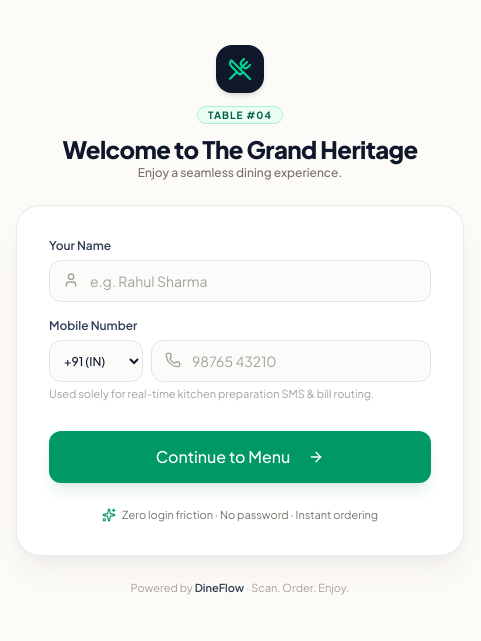
it: DineFlow Sprint 2 Authentication Views › validates customer guest entry required fields
Click the button "Continue to Menu" at (240, 457), box [49,431,431,483]
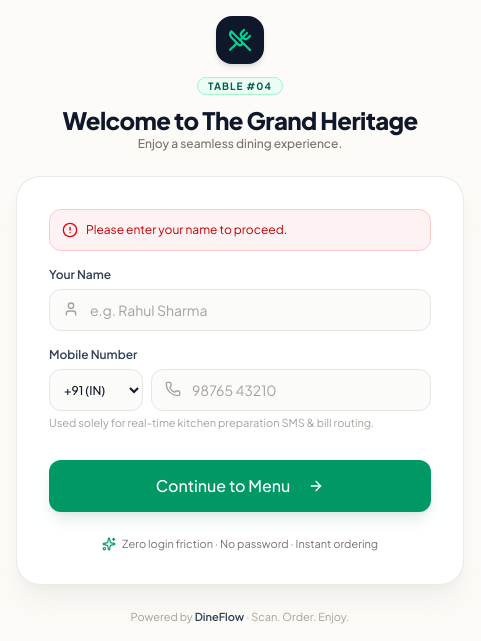
Expected: the text "Please enter your name to proceed." is shown, [86,222,287,238]
